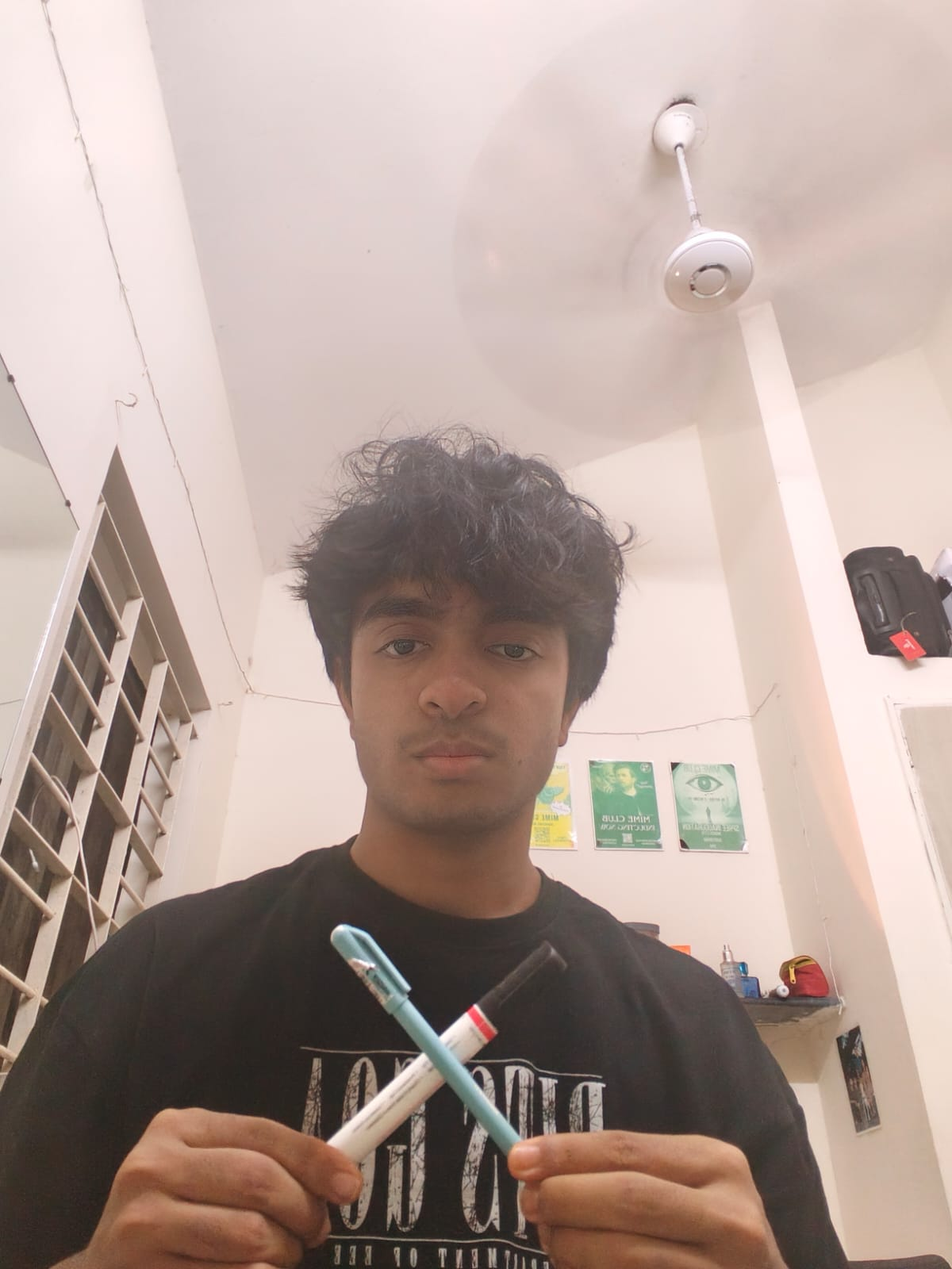case: (331, 954, 590, 1149)
pen: (322, 920, 549, 1153)
